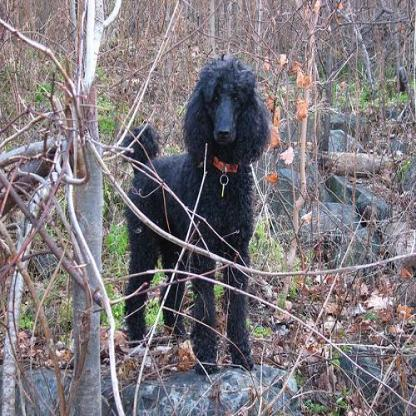standard_poodle: (120, 60, 276, 369)
